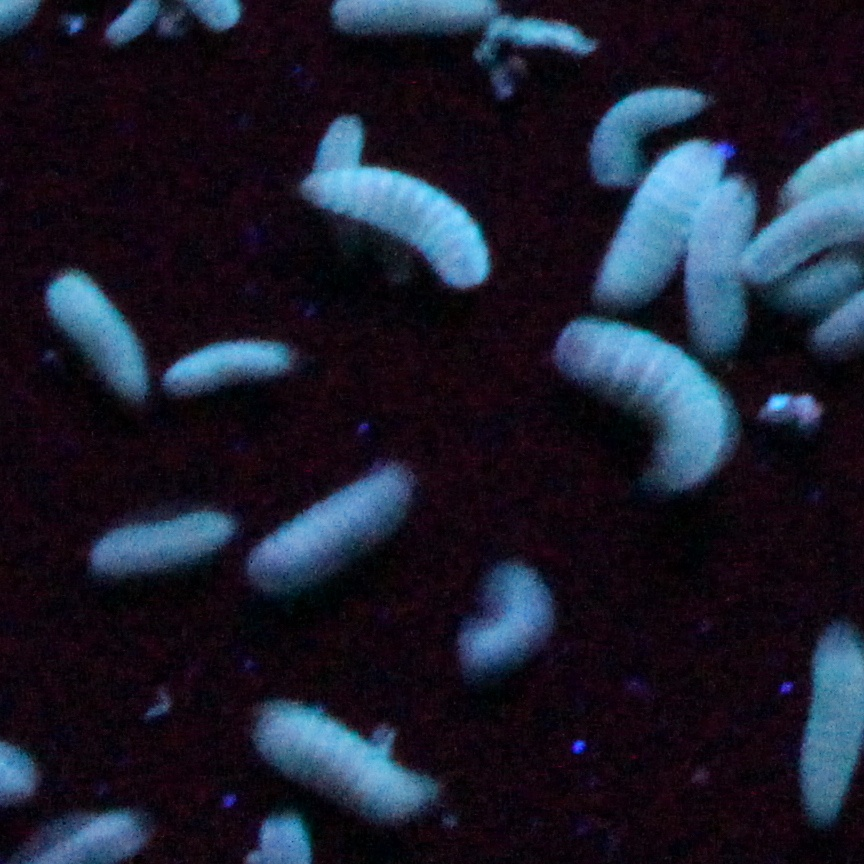larve: (553, 321, 732, 495), (250, 692, 444, 824), (305, 158, 487, 284), (602, 144, 726, 301), (259, 463, 412, 581), (40, 268, 152, 406), (594, 88, 706, 183), (466, 565, 563, 671), (687, 178, 747, 346), (99, 510, 239, 565), (165, 352, 294, 390)
